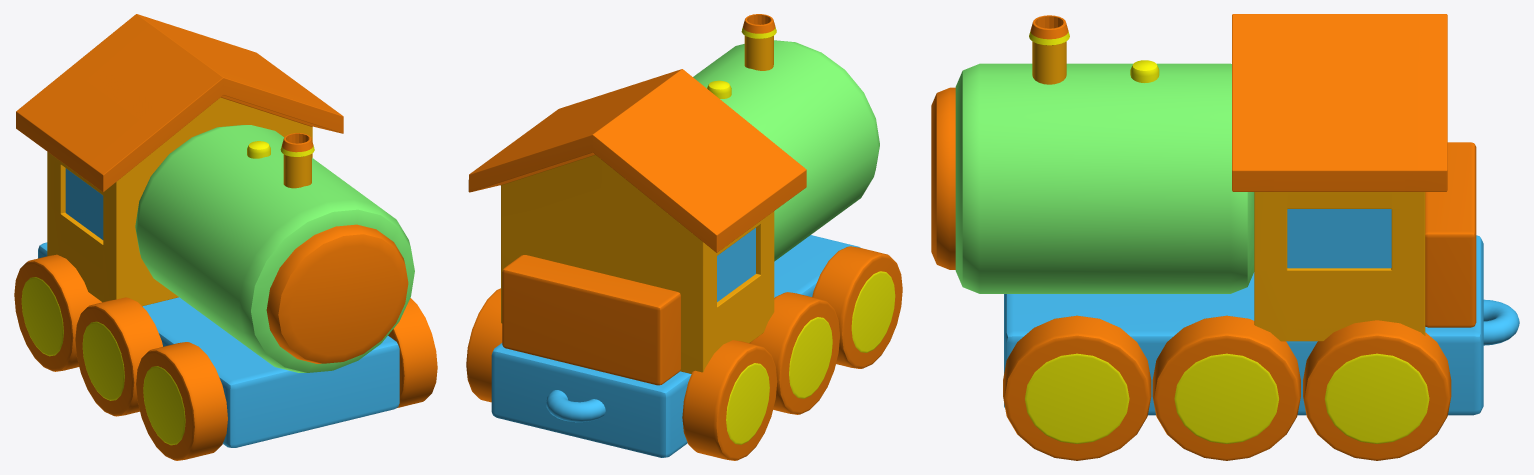
The model's file is huoche.fbx.
The picture shows the model from 3 angles, left to right: view 1: azimuth 30°, elevation 25°; view 2: azimuth 150°, elevation 25°; view 3: azimuth 270°, elevation 25°; orthographic projection. The views are drawn at different scales.
Parts seen in each view (by area): view 1: pCylinder1, polySurface17, pCube2, pCylinder11, polySurface16, pCylinder13, pCylinder12, pCylinder15, pCylinder3, pCylinder16, pCylinder17, pCylinder14 (+2 smaller); view 2: polySurface17, polySurface16, pCylinder1, pCube4, pCube2, pCylinder15, pCylinder13, pCylinder12, pCylinder16, pCylinder17, pCylinder14, pCylinder4 (+3 smaller); view 3: pCylinder1, polySurface17, polySurface16, pCube2, pCylinder3, pCylinder5, pCylinder4, pCube4, pCylinder10, pCylinder9, pCylinder8, polySurface9 (+3 smaller).
Boxes of the visible parts, <box> form: pCylinder1: <box>135,125,414,372</box>; polySurface17: <box>16,14,343,192</box>; pCube2: <box>38,242,399,447</box>; pCylinder11: <box>266,224,408,363</box>; polySurface16: <box>47,97,312,306</box>; pCylinder13: <box>136,342,227,460</box>; pCylinder12: <box>75,297,162,416</box>; pCylinder15: <box>14,254,101,371</box>; pCylinder3: <box>388,298,437,408</box>; pCylinder16: <box>21,277,63,356</box>; pCylinder17: <box>82,321,124,400</box>; pCylinder14: <box>143,366,185,445</box>; polySurface17: <box>468,69,806,252</box>; polySurface16: <box>501,155,774,373</box>; pCylinder1: <box>693,40,879,261</box>; pCube4: <box>502,255,680,385</box>; pCube2: <box>491,235,860,457</box>; pCylinder15: <box>682,340,777,460</box>; pCylinder13: <box>812,246,902,368</box>; pCylinder12: <box>749,292,839,414</box>; pCylinder16: <box>726,363,769,444</box>; pCylinder17: <box>789,317,832,398</box>; pCylinder14: <box>851,271,895,352</box>; pCylinder4: <box>466,288,502,402</box>; pCylinder1: <box>955,63,1254,293</box>; polySurface17: <box>1232,14,1447,191</box>; polySurface16: <box>1254,192,1425,341</box>; pCube2: <box>1004,235,1483,415</box>; pCylinder3: <box>1003,315,1151,460</box>; pCylinder5: <box>1152,315,1300,460</box>; pCylinder4: <box>1303,320,1451,460</box>; pCube4: <box>1425,142,1476,327</box>; pCylinder10: <box>1324,353,1429,443</box>; pCylinder9: <box>1174,353,1278,443</box>; pCylinder8: <box>1025,353,1129,443</box>; polySurface9: <box>1287,209,1391,268</box>.
Bounding box in the file's own units: 1.69 × 2.85 × 2.
